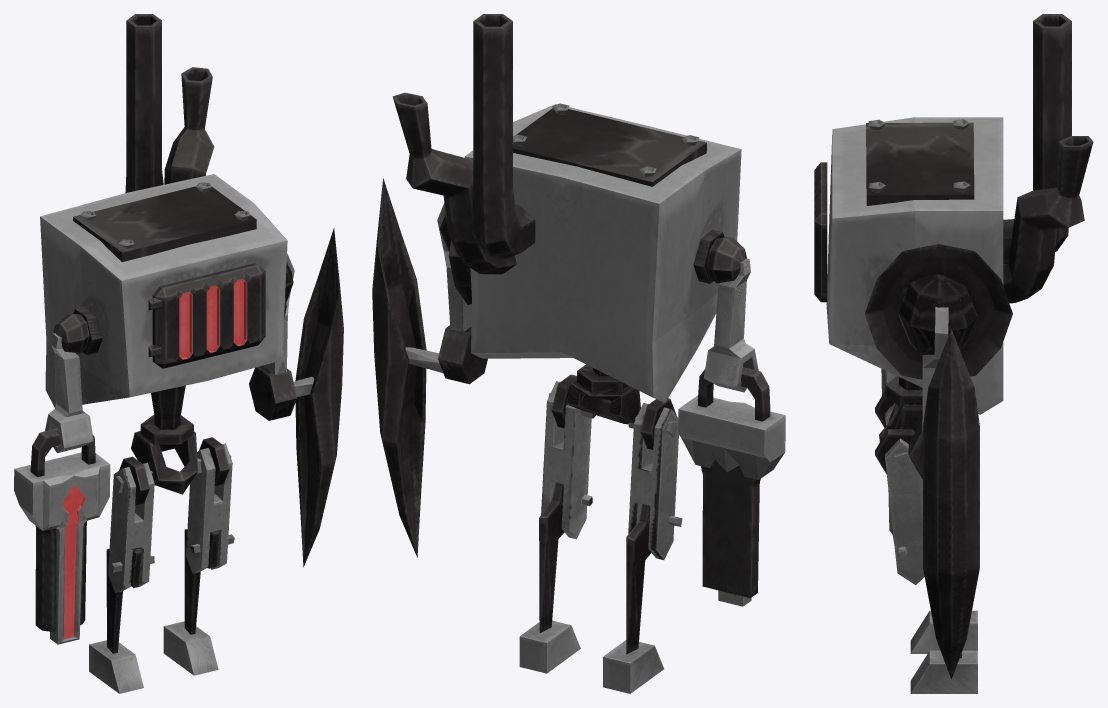
The model's file is mesh_enemy_ranged.glb.
3 renders of one model, left to right at view 1: azimuth 30°, elevation 25°; view 2: azimuth 150°, elevation 25°; view 3: azimuth 270°, elevation 25°, orthographic. The views are drawn at different scales.
Visible parts, largest first — view 1: Cube.004_Cube.001; view 2: Cube.004_Cube.001; view 3: Cube.004_Cube.001.
Part boxes in pixels (x1=…): Cube.004_Cube.001: x1=14, y1=14, x2=343, y2=693; Cube.004_Cube.001: x1=372, y1=14, x2=785, y2=693; Cube.004_Cube.001: x1=814, y1=14, x2=1093, y2=693.
Bounding box in the file's own units: 1.19 × 2.02 × 0.7669.
Materials: 1 (1 with a texture image).
